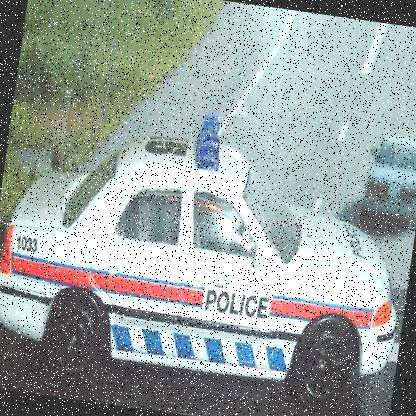Car: (0, 84, 415, 415), (359, 135, 415, 233)
